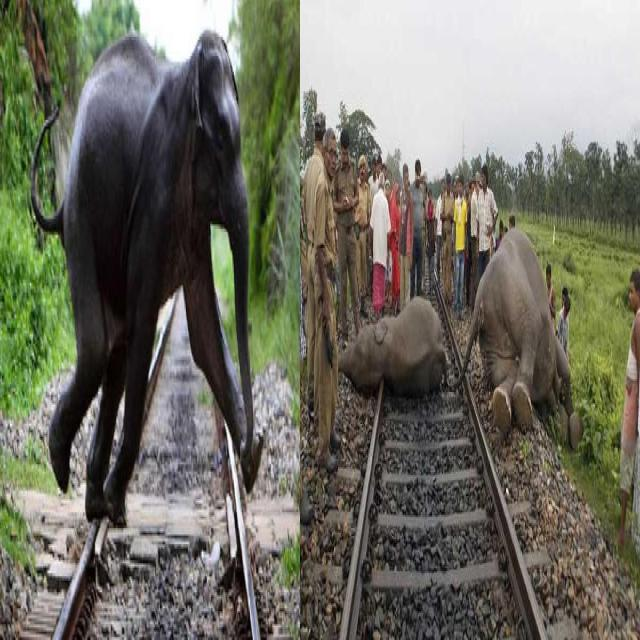Elephant: (38, 26, 267, 529), (474, 234, 562, 432), (343, 298, 447, 400)
